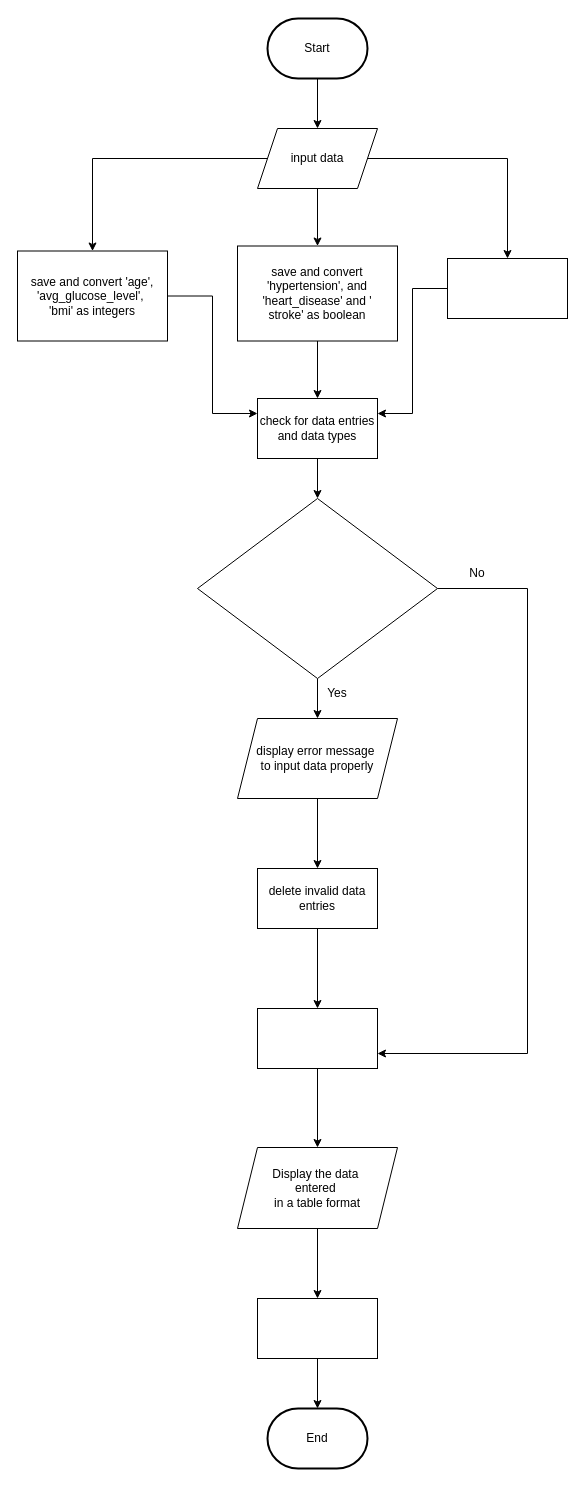
The diagram is 585 pixels wide and 1486 high, and some of its shapes have lost their labels. The centre of each missing label's shape, as x and y in pixels:
if 'age' and/or 'avg_glucose_level' and/or 'bmi' = empty or not integer: [317,588]
save 'gender' as string: [507,288]
save the data: [317,1038]
Save the data as JSON file: [317,1328]
